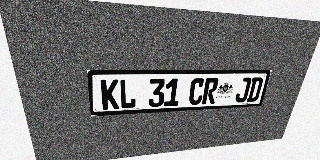1: (164, 78, 181, 106)
3: (148, 79, 165, 107)
C: (188, 78, 205, 105)
D: (246, 77, 264, 102)
J: (234, 77, 252, 103)
K: (100, 79, 119, 110)
L: (119, 79, 136, 109)
R: (202, 78, 219, 104)
